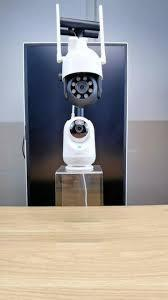maru: (62, 40, 107, 106), (61, 117, 99, 166)
